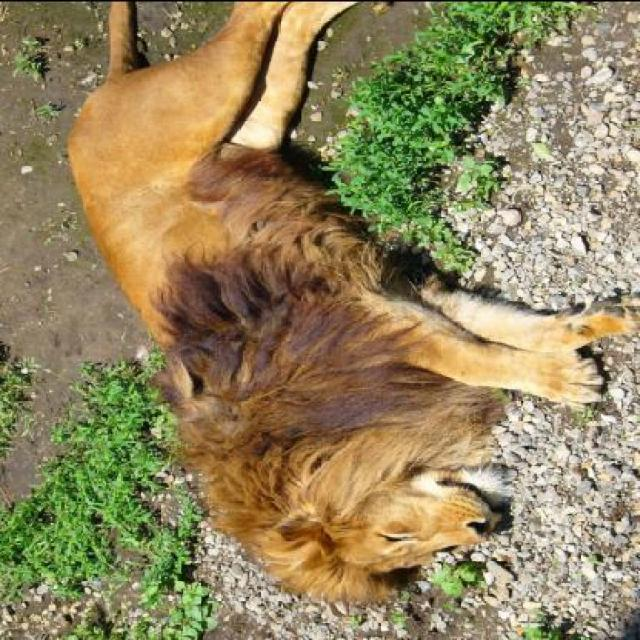Lion: (24, 4, 638, 622)
